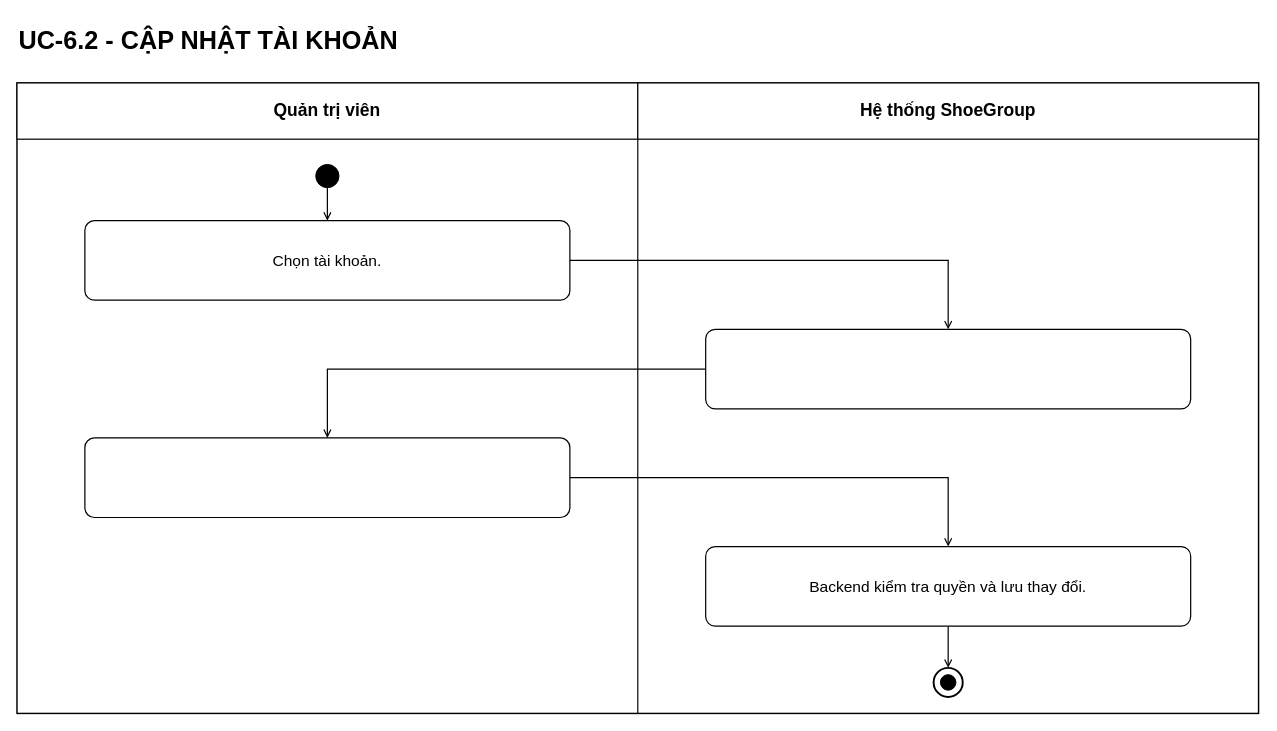
Image size: 1277x731. Some labels were removed from this diagram. The shapes that lost their labels are listed below. From the top down, each one's centre as x and y in pixels, then its label:
point 948,368: Hệ thống hiển thị dữ liệu hiện tại.
point 327,477: Cập nhật họ tên, điện thoại, địa chỉ, vai trò hoặc trạng thái.
